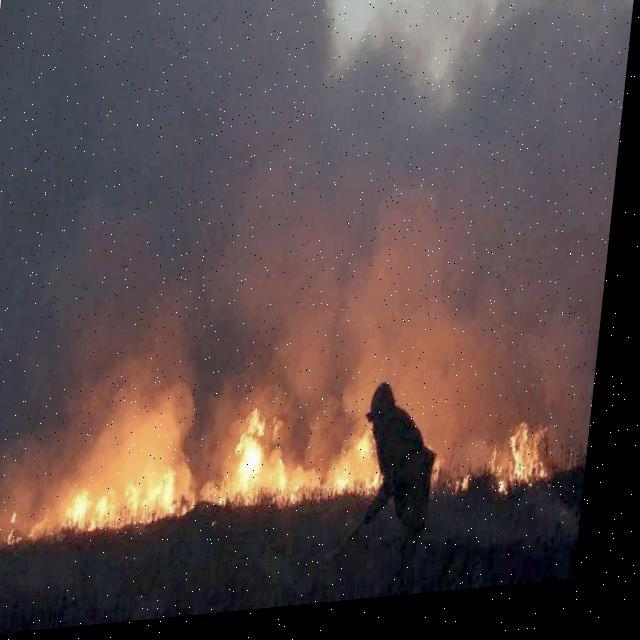Fire: (0, 404, 401, 538), (436, 422, 565, 502)
